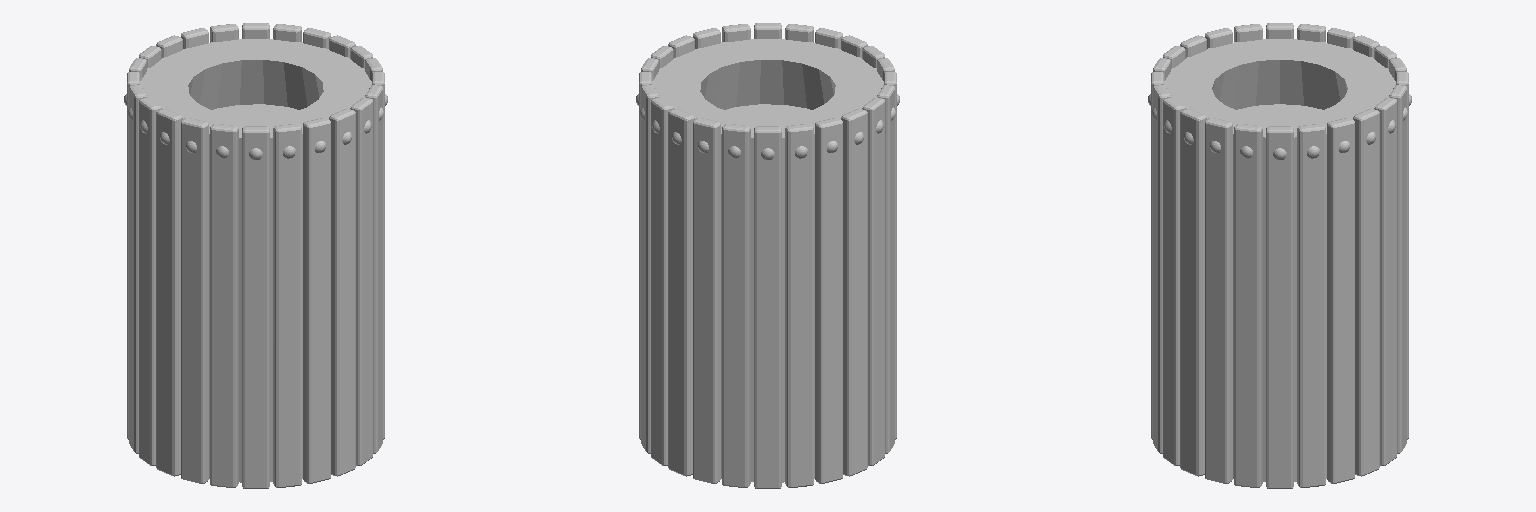
File: trash.obj
3 views of the same model, side by side, from view 1: azimuth 30°, elevation 25°; view 2: azimuth 150°, elevation 25°; view 3: azimuth 270°, elevation 25° (orthographic).
Parts seen in each view (by area): view 1: pCylinder2; view 2: pCylinder2; view 3: pCylinder2.
Boxes of the visible parts, box(x1,y1,x2,y2) form: pCylinder2: box(124, 23, 387, 488); pCylinder2: box(636, 23, 899, 488); pCylinder2: box(1148, 23, 1411, 488).
Size of the model in its own units: 0.5092 by 0.7621 by 0.5092.